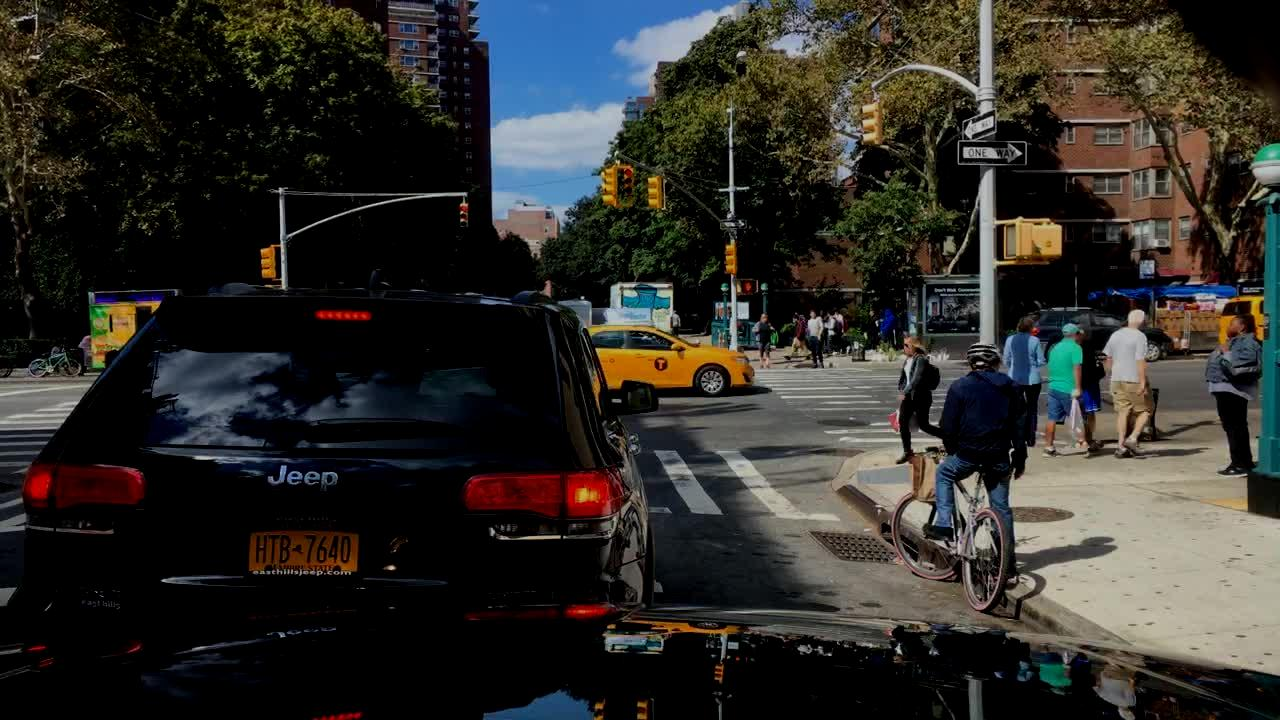jeep: (260, 450, 344, 504)
